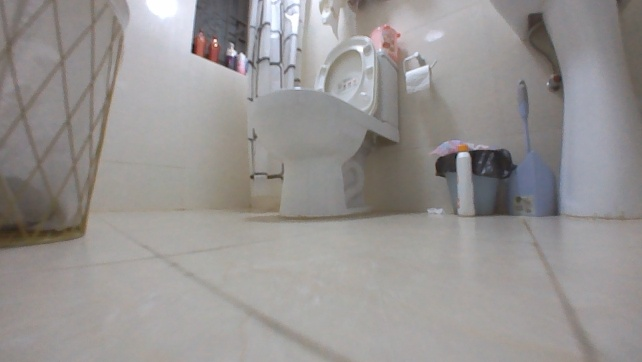toilet: (246, 32, 378, 218)
